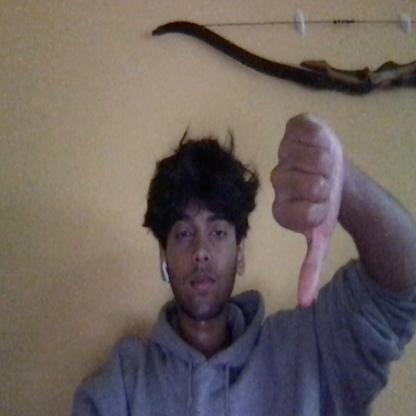Thumbs-Down: (254, 89, 349, 312)
